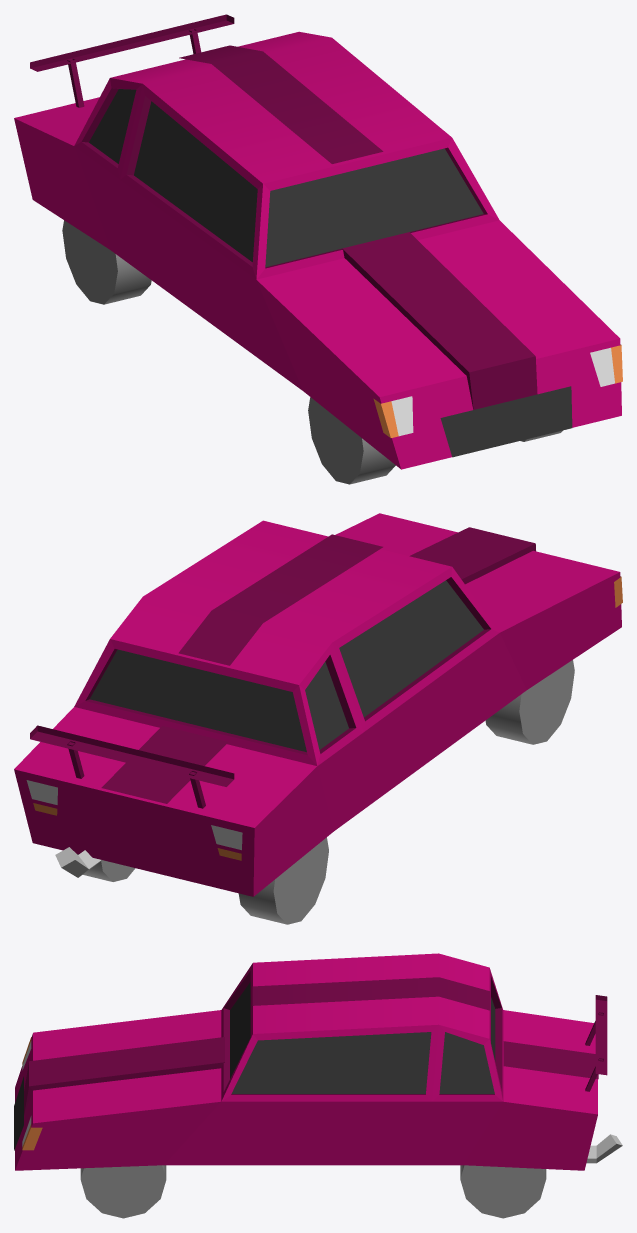
Rendered from sportscar_06.fbx.
3 views of the same model, one above another, from view 1: azimuth 30°, elevation 25°; view 2: azimuth 150°, elevation 25°; view 3: azimuth 270°, elevation 25° (orthographic). The views are drawn at different scales.
Visible parts, largest first — view 1: sportscar_06; view 2: sportscar_06; view 3: sportscar_06.
Part boxes in pixels (bbox=[...]): sportscar_06: bbox=[14, 14, 622, 484]; sportscar_06: bbox=[14, 513, 622, 924]; sportscar_06: bbox=[14, 953, 622, 1218].
Size of the model in its own units: 1.6 by 1.56 by 4.49.
